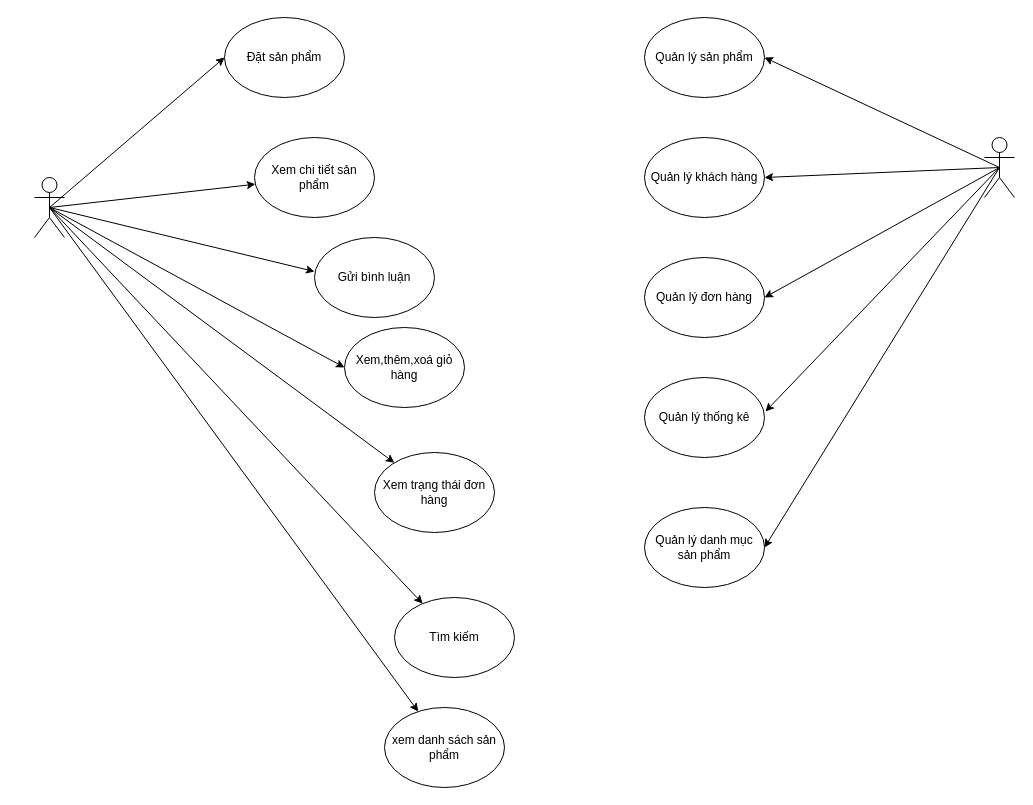
Image size: 1033x805. Some labels were removed from this diagram. Here are the shapes that lost their labels. From the top down, the centre of each, then its label:
At [999,167]: "admin".
At [49,207]: "Khách hàng".
